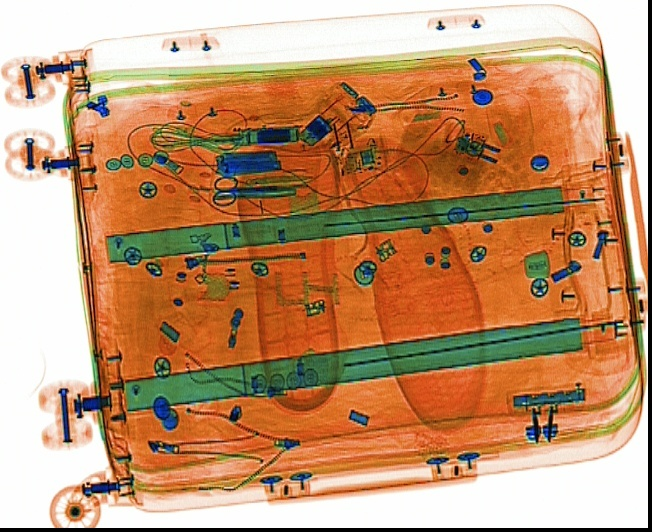scissors: (207, 171, 293, 204)
